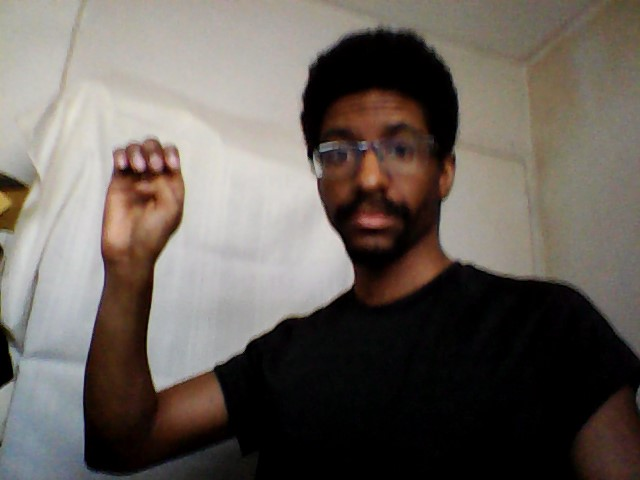e: (98, 132, 190, 276)
